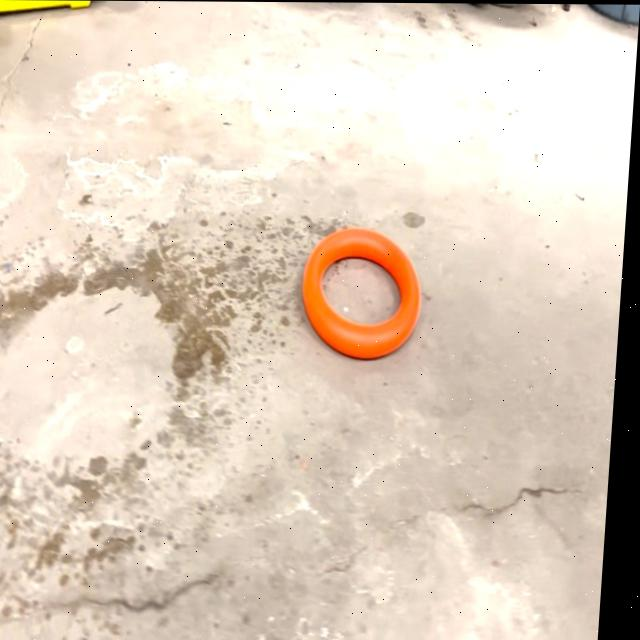note: (304, 233, 423, 361)
